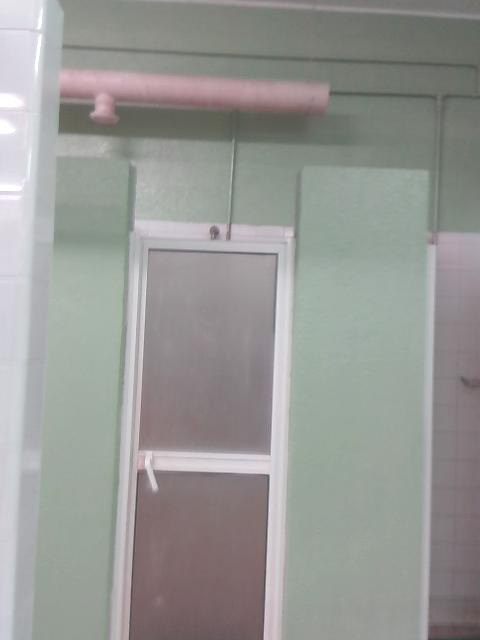closed_door: (104, 220, 294, 639)
